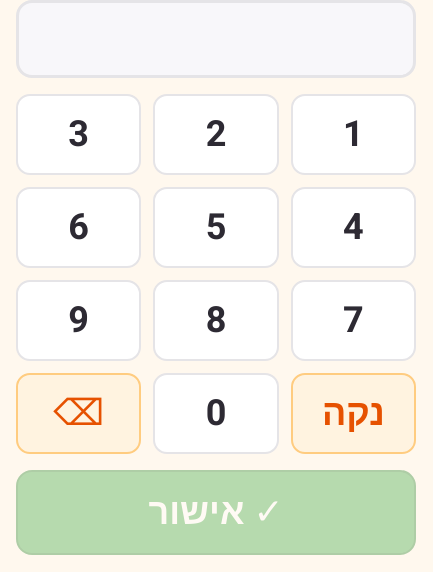
Scenario: NumberInput › displays entered digits
Click the button "1" at (353, 134), box [291,94,416,175]
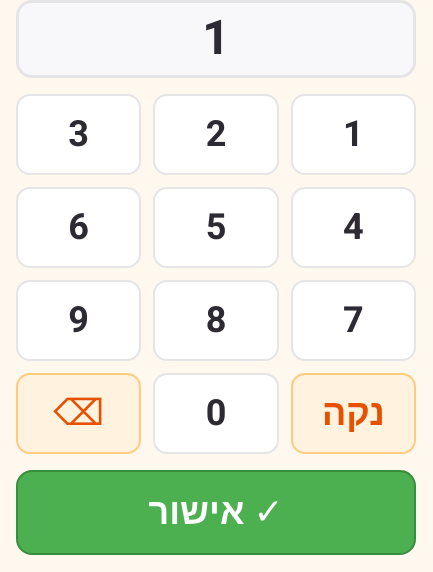
Click the button "5" at (216, 228), box [153,187,279,268]
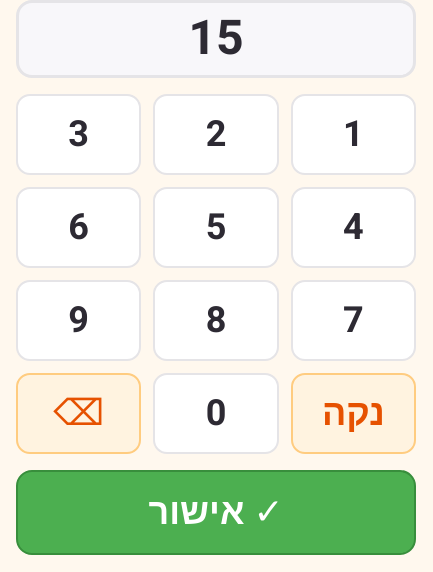
Expected: the text with class "number-input__value" reads "15", [188,4,244,74]
